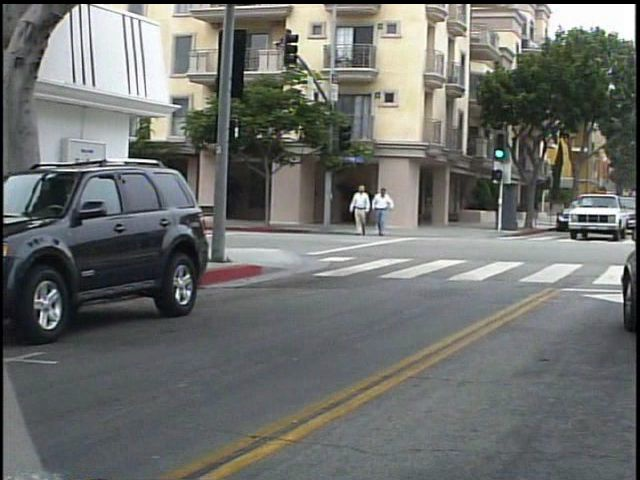person: (355, 181, 379, 243), (377, 184, 402, 241)
